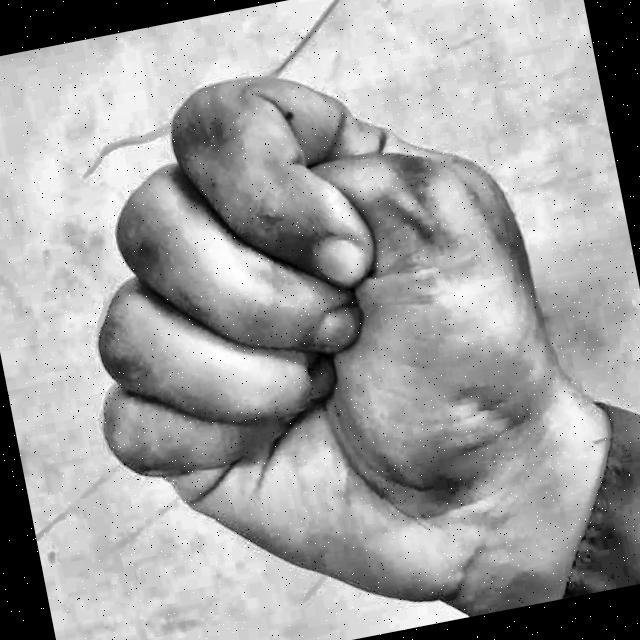To: (8, 0, 624, 640)
